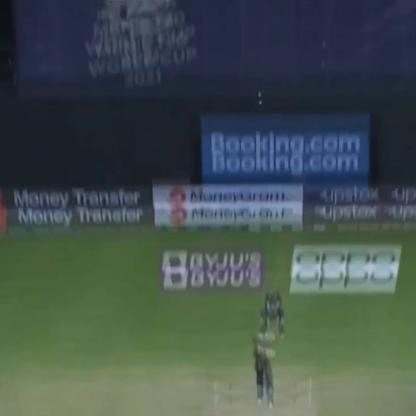ball: (254, 86, 264, 96), (258, 100, 266, 107)
pitch: (204, 375, 321, 415)
